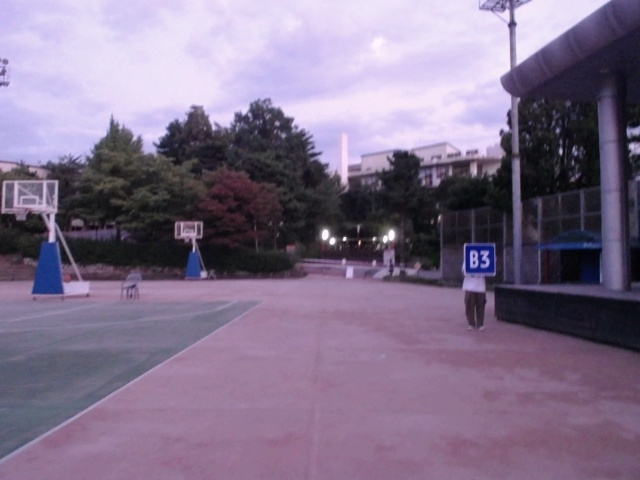delivery_b3: (463, 244, 496, 274)
